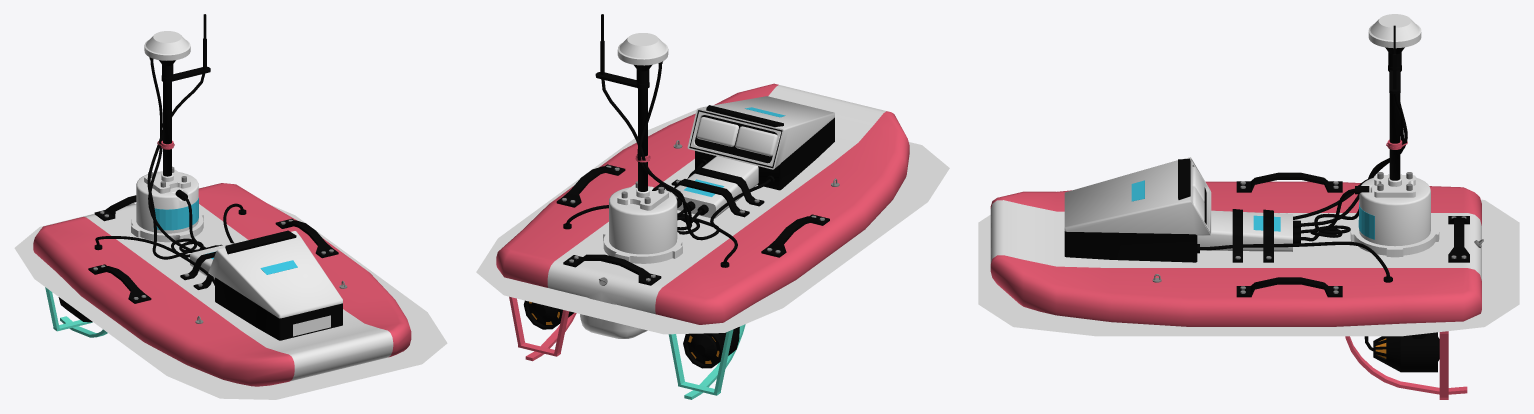
The model's file is Messrobo.fbx.
3 views of the same model, side by side, from view 1: azimuth 30°, elevation 25°; view 2: azimuth 150°, elevation 25°; view 3: azimuth 270°, elevation 25° (orthographic). The views are drawn at different scales.
Visible parts, largest first — view 1: Cube, Plane, Cube.005, Cube.002, Cube.001, NurbsPath.002, Cube.025, Cube.024, NurbsPath.004, Cube.007, Cube.003, Cube.009 (+3 smaller); view 2: Cube, Plane, Cube.005, Cube.002, Cube.025, Cube.006, Cube.011, Cube.001, Cube.018, NurbsPath.002, Cube.022, Cube.023 (+5 smaller); view 3: Cube, Plane, Cube.005, Cube.002, Cube.006, Cube.011, Cube.001, Cube.018, NurbsPath.002, NurbsPath, Cube.003, Cube.015 (+2 smaller).
Boxes of the visible parts, left/top/right/bottom form: Cube: left=33, top=183, right=411, bottom=386; Plane: left=14, top=203, right=447, bottom=399; Cube.005: left=208, top=231, right=342, bottom=340; Cube.002: left=131, top=31, right=203, bottom=242; Cube.001: left=88, top=218, right=338, bottom=303; NurbsPath.002: left=147, top=73, right=219, bottom=259; Cube.025: left=45, top=287, right=107, bottom=337; Cube.024: left=153, top=197, right=198, bottom=230; NurbsPath.004: left=148, top=59, right=194, bottom=252; Cube.007: left=225, top=230, right=296, bottom=254; Cube.003: left=144, top=169, right=190, bottom=193; Cube.009: left=293, top=315, right=330, bottom=336; Cube: left=496, top=83, right=909, bottom=338; Plane: left=476, top=107, right=949, bottom=334; Cube.005: left=687, top=96, right=834, bottom=190; Cube.002: left=603, top=33, right=682, bottom=263; Cube.025: left=668, top=324, right=745, bottom=399; Cube.006: left=509, top=296, right=576, bottom=361; Cube.011: left=671, top=156, right=758, bottom=218; Cube.001: left=556, top=164, right=829, bottom=257; Cube.018: left=671, top=167, right=764, bottom=217; NurbsPath.002: left=601, top=79, right=719, bottom=240; Cube.022: left=696, top=117, right=738, bottom=146; Cube.023: left=735, top=126, right=777, bottom=156; Cube: left=990, top=181, right=1481, bottom=326; Plane: left=978, top=199, right=1519, bottom=336; Cube.005: left=1064, top=157, right=1211, bottom=262; Cube.002: left=1350, top=14, right=1439, bottom=257; Cube.006: left=1345, top=331, right=1467, bottom=399; Cube.011: left=1197, top=210, right=1292, bottom=251; Cube.001: left=1236, top=172, right=1342, bottom=297; Cube.018: left=1232, top=209, right=1273, bottom=262; NurbsPath.002: left=1301, top=94, right=1403, bottom=241; NurbsPath: left=1200, top=241, right=1389, bottom=350; Cube.003: left=1374, top=175, right=1415, bottom=197; Cube.015: left=1448, top=216, right=1469, bottom=262.
Bounding box in the file's own units: 87.72 × 97.24 × 138.
